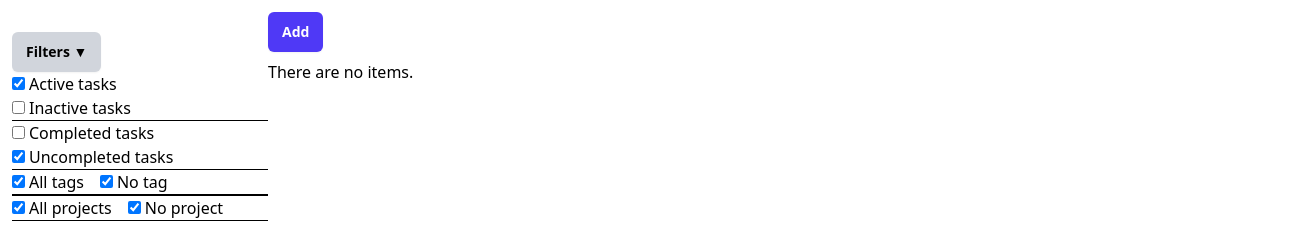
Test: TaskView › get both active and inactive tasks
Step 1. Click the checkbox labelled "Inactive tasks" → (18, 108), box x1=12 y1=101 x2=25 y2=114
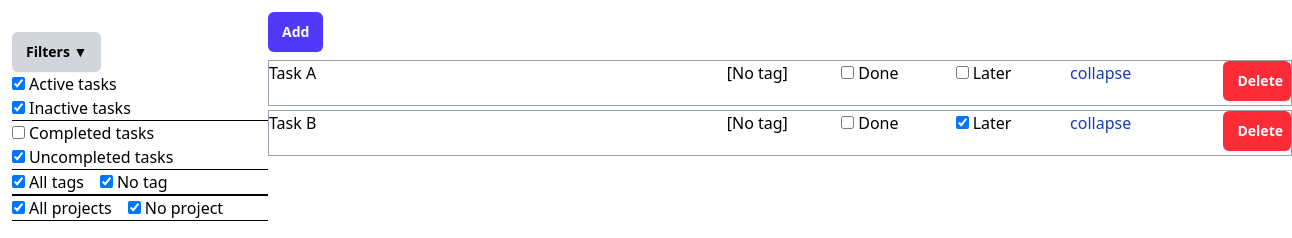
expect the checkbox labelled "Inactive tasks" is checked: met, box x1=12 y1=101 x2=25 y2=114
expect the number of elements with test id "item" is 2: met, box x1=268 y1=60 x2=1291 y2=106; x1=268 y1=110 x2=1291 y2=156
expect the text with test id "description" reads "Task A": met, box x1=269 y1=62 x2=316 y2=84
